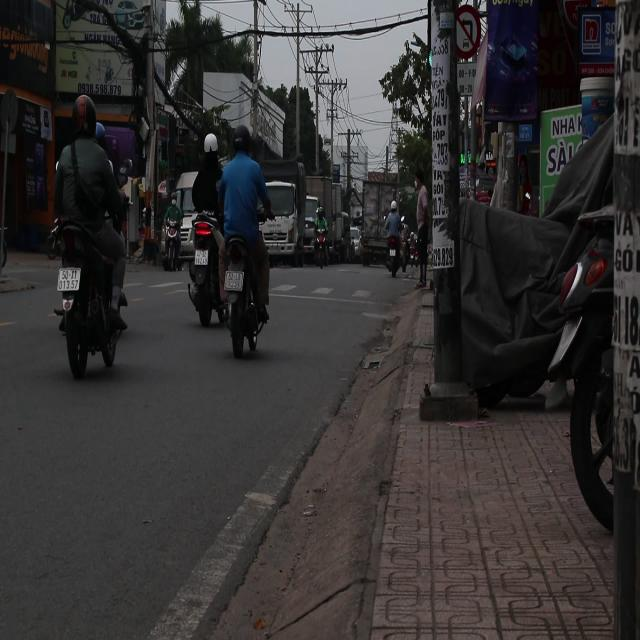car: (158, 175, 198, 271), (348, 227, 361, 256)
motorbike: (54, 220, 128, 378), (217, 221, 270, 356), (186, 214, 227, 330), (165, 214, 185, 279), (312, 233, 329, 268)
truck: (258, 160, 316, 266)
